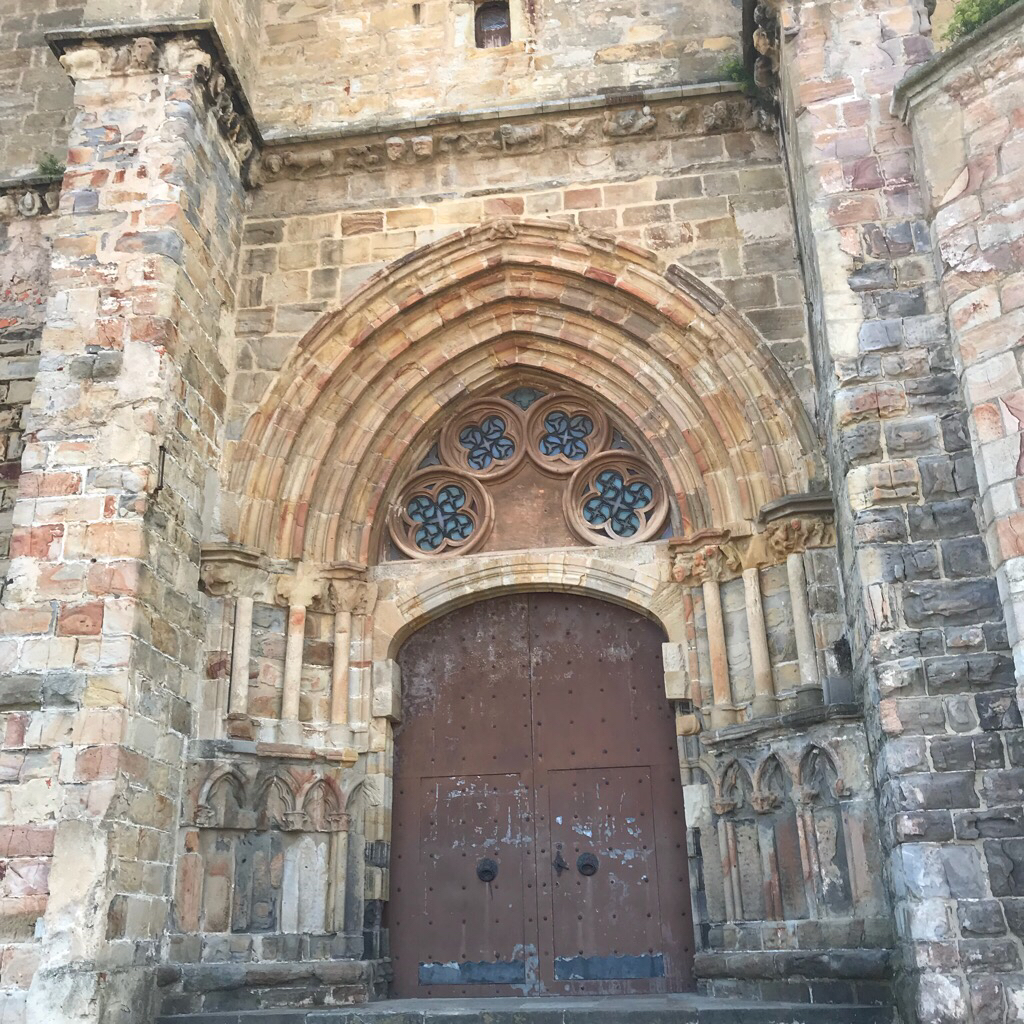arco-apuntado: (260, 251, 773, 556)
